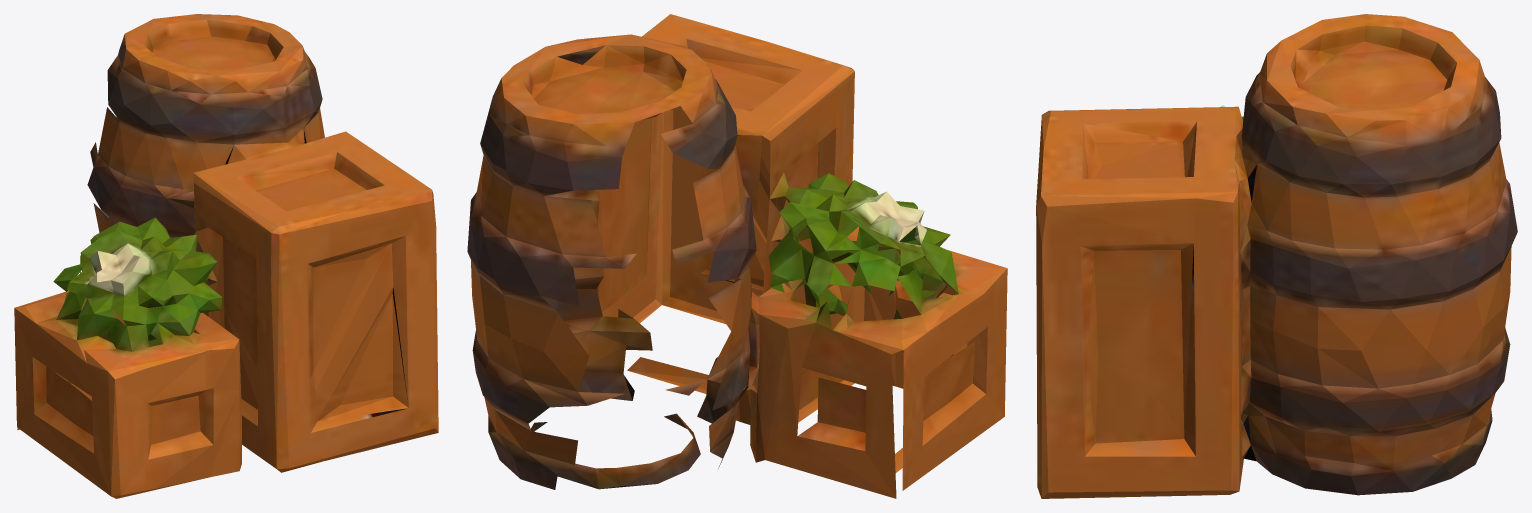
Rendered from M-5_10_barrels.glb.
The picture shows the model from 3 angles, left to right: view 1: azimuth 30°, elevation 25°; view 2: azimuth 150°, elevation 25°; view 3: azimuth 270°, elevation 25°; orthographic projection. The views are drawn at different scales.
Visible parts, largest first — view 1: loA; view 2: loA; view 3: loA.
Boxes of the visible parts, x1,y1,x2,y2 form: loA: (14, 14, 438, 498); loA: (467, 14, 1007, 498); loA: (1036, 14, 1517, 498).
Size of the model in its own units: 1.63 by 1.54 by 1.7.
1 material, 1 textured.
